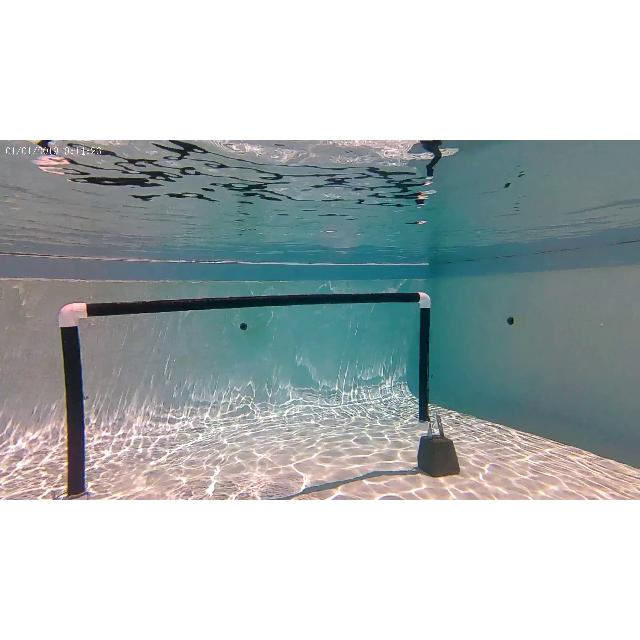prequal gate: (59, 291, 431, 499)
prequal gate leg l: (50, 300, 90, 500)
prequal gate leg r: (416, 291, 434, 431)
